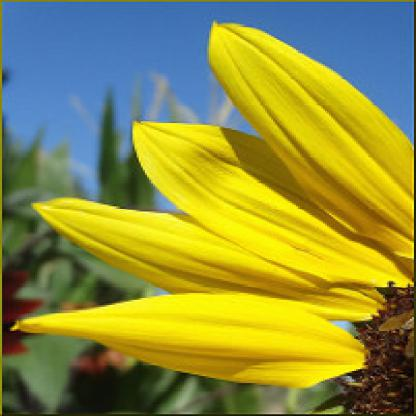SUN FLOWER: (11, 10, 409, 414)
